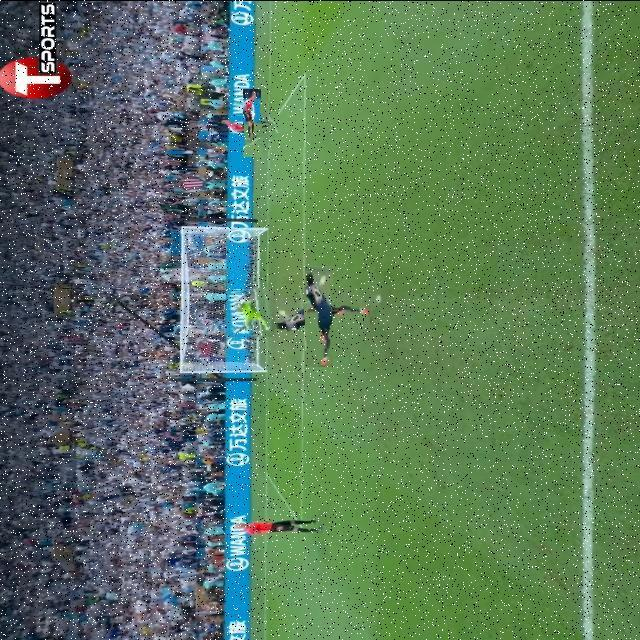ball: (276, 317, 290, 323)
goalkeeper: (228, 287, 276, 337)
player: (285, 283, 353, 350)
referee: (230, 100, 275, 145), (231, 516, 333, 533)
